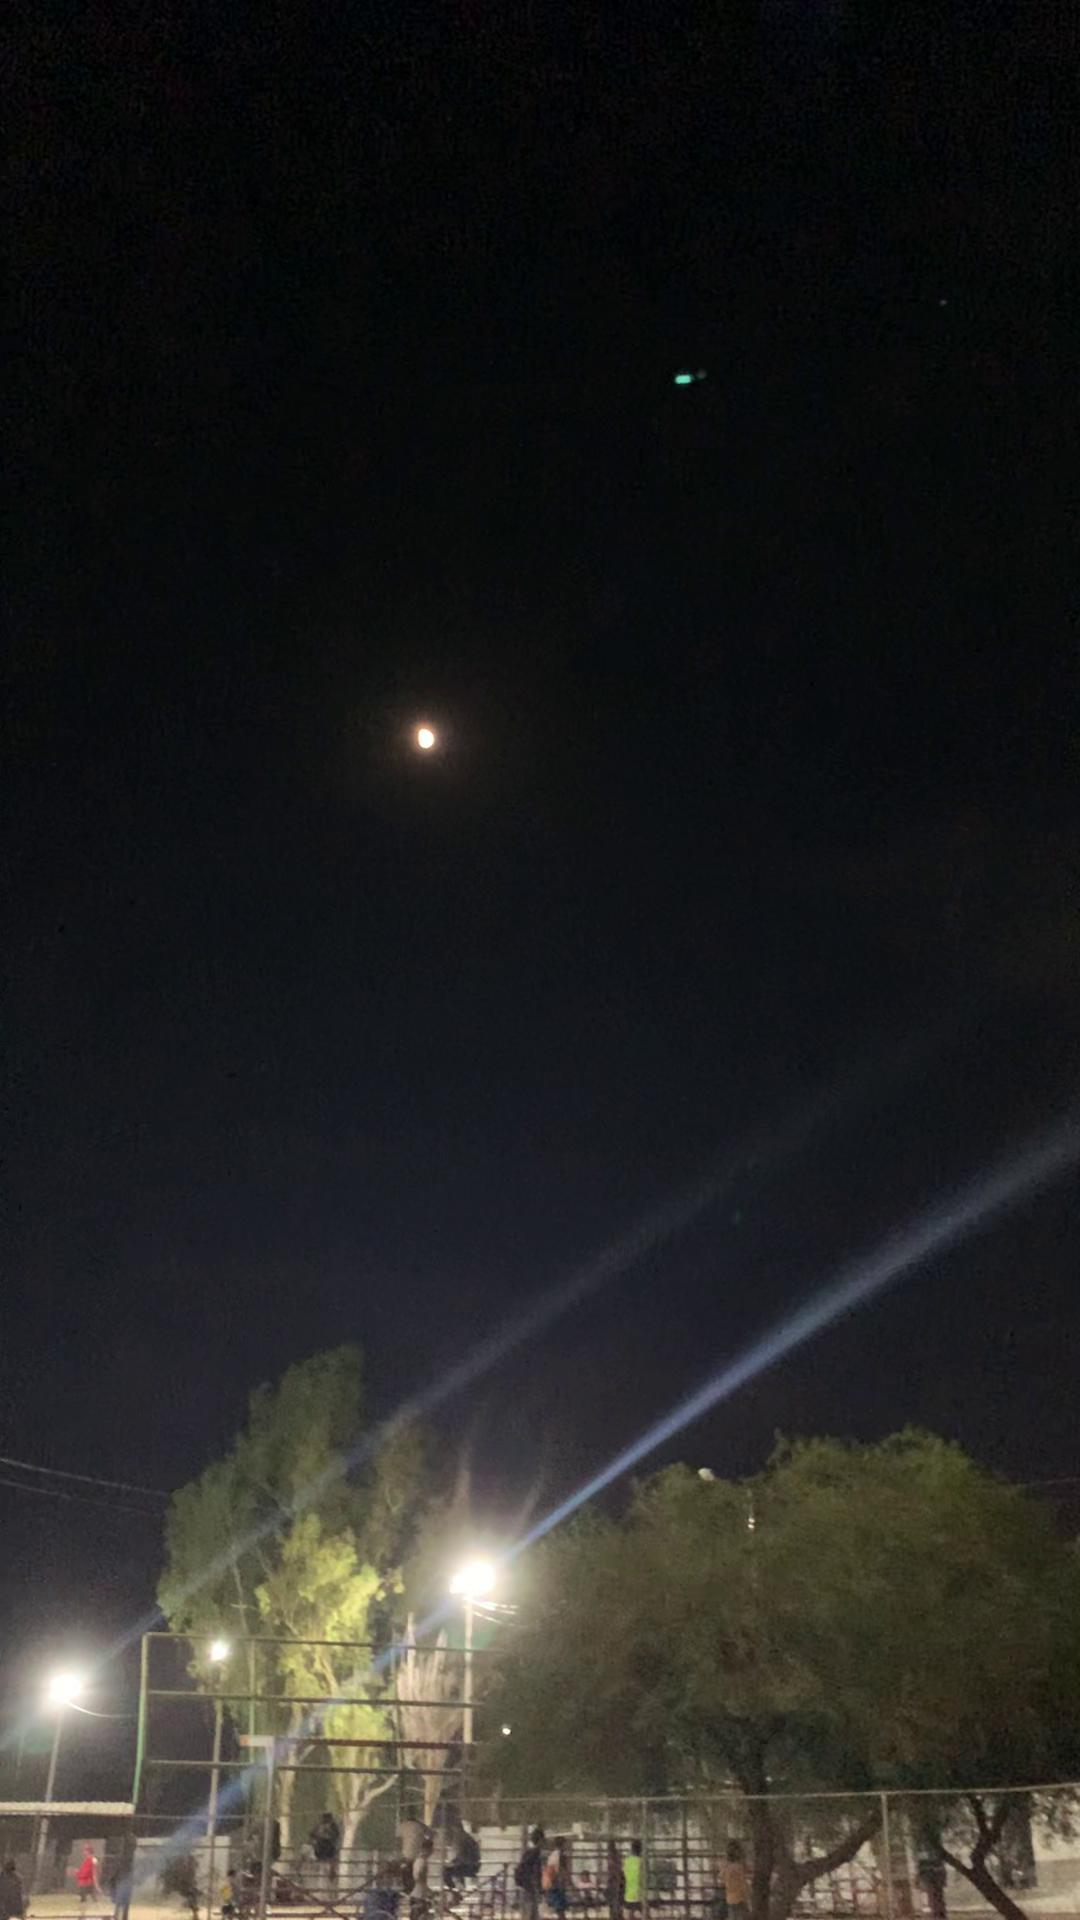moon: (385, 705, 464, 795)
